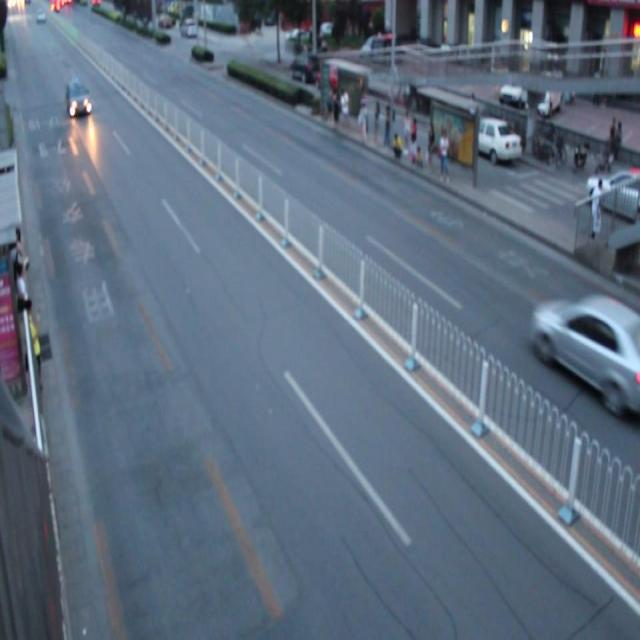car: (532, 290, 640, 410), (64, 77, 92, 119)
